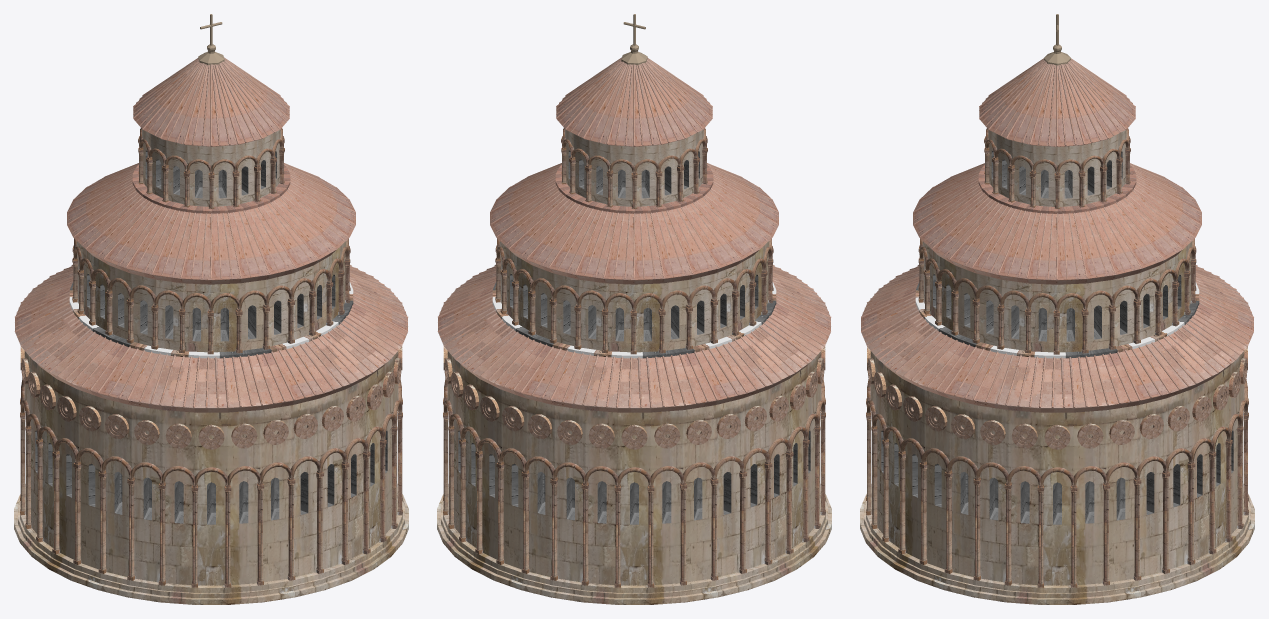
File: kaghashen_02.fbx
3 renders of one model, left to right at view 1: azimuth 30°, elevation 25°; view 2: azimuth 150°, elevation 25°; view 3: azimuth 270°, elevation 25°, orthographic.
Visible parts, largest first — view 1: Cylinder.008; view 2: Cylinder.008; view 3: Cylinder.008.
Boxes of the visible parts, x1,y1,x2,y2 form: Cylinder.008: (14, 14, 408, 604); Cylinder.008: (437, 14, 831, 604); Cylinder.008: (860, 14, 1254, 604).
Size of the model in its own units: 1784 by 2527 by 1784.
